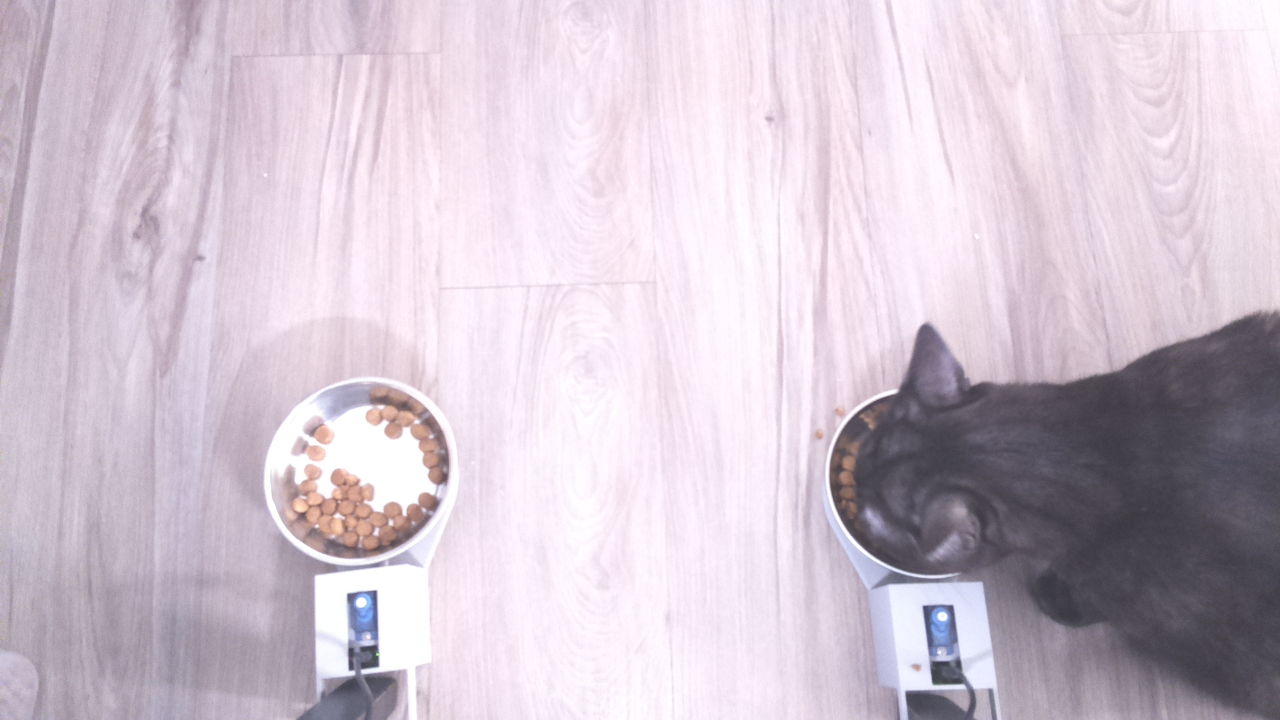open_bowl: (263, 370, 470, 577)
saki_eating: (814, 301, 1077, 596)
